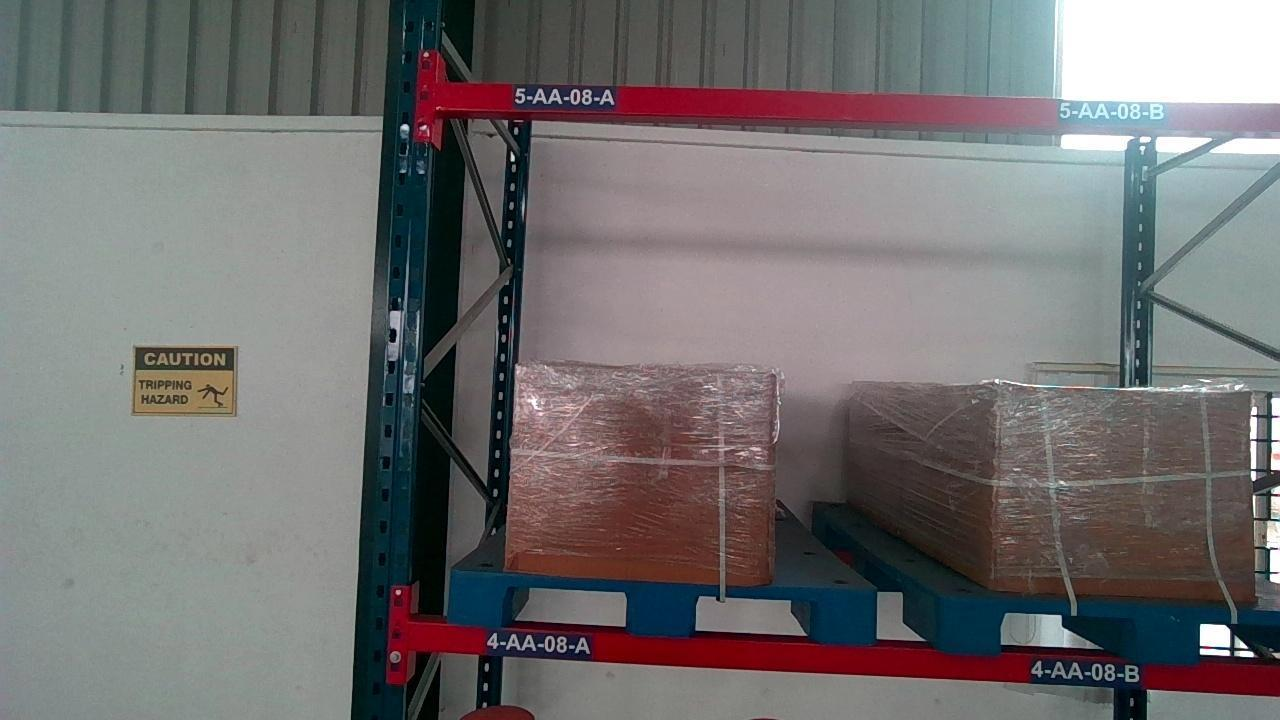h_rack: (414, 621, 1279, 684), (435, 82, 1280, 132)
small_pallet: (444, 574, 885, 642), (952, 600, 1279, 660)
